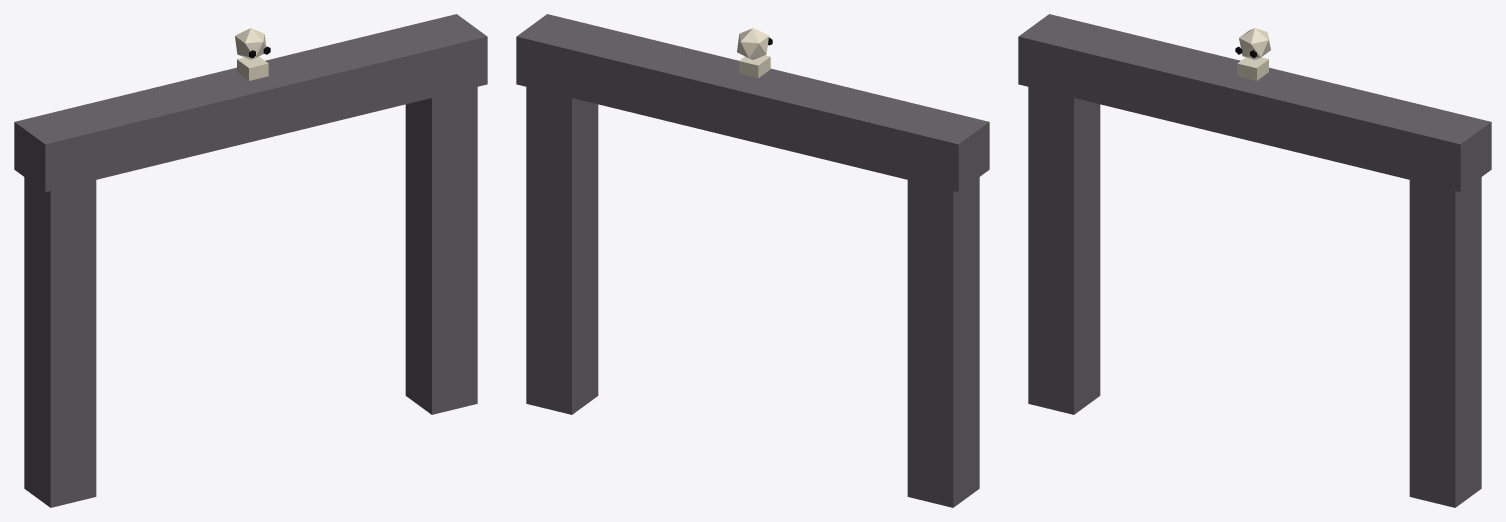
File: Bld_OR_SkullArch_06.glb
The picture shows the model from 3 angles, left to right: view 1: azimuth 30°, elevation 25°; view 2: azimuth 150°, elevation 25°; view 3: azimuth 330°, elevation 25°; orthographic projection.
Parts seen in each view (by area): view 1: Bld_OR_SkullArch_06; view 2: Bld_OR_SkullArch_06; view 3: Bld_OR_SkullArch_06.
Boxes of the visible parts, <box> form: Bld_OR_SkullArch_06: <box>14,14,487,507</box>; Bld_OR_SkullArch_06: <box>516,14,989,507</box>; Bld_OR_SkullArch_06: <box>1018,14,1491,507</box>.
Size of the model in its own units: 5.8 by 5.24 by 0.7.
